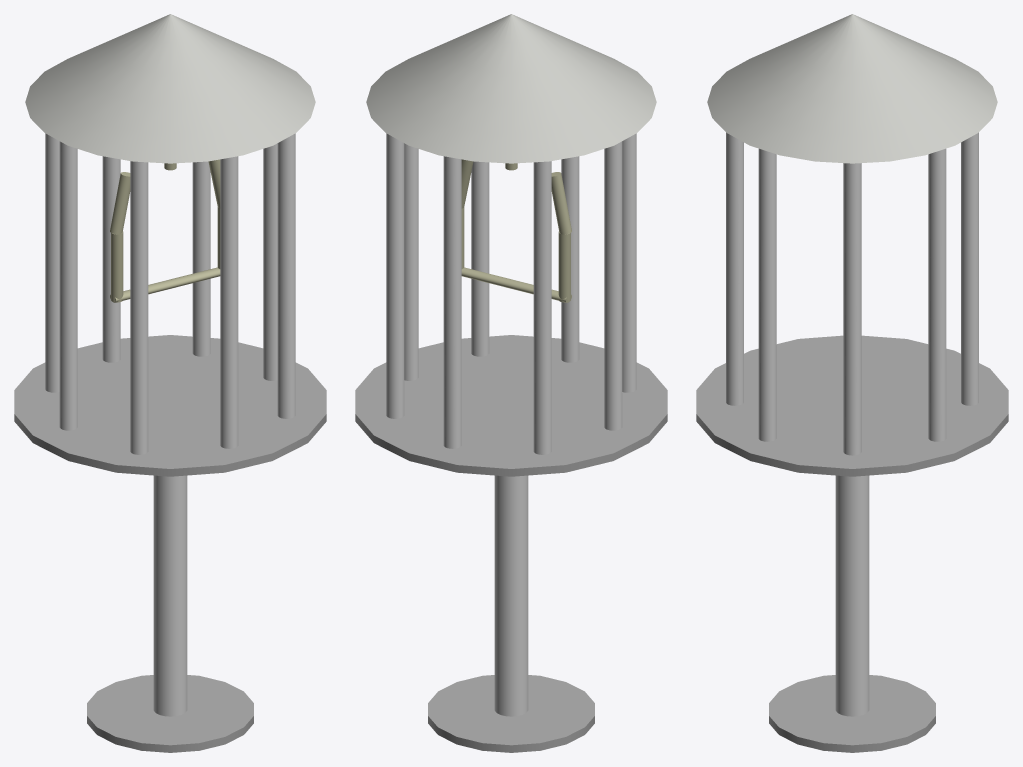
File: Cage(white).FBX
3 views of the same model, side by side, from view 1: azimuth 30°, elevation 25°; view 2: azimuth 150°, elevation 25°; view 3: azimuth 270°, elevation 25° (orthographic).
Parts seen in each view (by area): view 1: Cone001, Cylinder003, Cylinder001, Cylinder002, Cylinder008, Cylinder005, Cylinder006, Cylinder011, Cylinder009, Cylinder010, Cylinder007, Cylinder004 (+3 smaller); view 2: Cone001, Cylinder003, Cylinder001, Cylinder002, Cylinder009, Cylinder004, Cylinder006, Cylinder010, Cylinder008, Cylinder011, Cylinder007, Cylinder005 (+3 smaller); view 3: Cone001, Cylinder003, Cylinder001, Cylinder002, Cylinder007, Cylinder010, Cylinder011, Cylinder004, Cylinder005.
Boxes of the visible parts, x1=… form: Cone001: x1=25, y1=14, x2=315, y2=163; Cylinder003: x1=14, y1=335, x2=326, y2=476; Cylinder001: x1=87, y1=675, x2=253, y2=752; Cylinder002: x1=153, y1=475, x2=187, y2=716; Cylinder008: x1=130, y1=161, x2=148, y2=454; Cylinder005: x1=220, y1=156, x2=238, y2=448; Cylinder006: x1=59, y1=141, x2=77, y2=430; Cylinder011: x1=277, y1=133, x2=295, y2=418; Cylinder009: x1=45, y1=133, x2=59, y2=392; Cylinder010: x1=192, y1=161, x2=210, y2=356; Cylinder007: x1=263, y1=143, x2=277, y2=380; Cylinder004: x1=102, y1=156, x2=120, y2=362; Cone001: x1=366, y1=14, x2=656, y2=163; Cylinder003: x1=355, y1=335, x2=667, y2=476; Cylinder001: x1=428, y1=675, x2=594, y2=752; Cylinder002: x1=494, y1=475, x2=528, y2=716; Cylinder009: x1=533, y1=161, x2=551, y2=454; Cylinder004: x1=443, y1=156, x2=461, y2=448; Cylinder006: x1=604, y1=141, x2=622, y2=430; Cylinder010: x1=386, y1=133, x2=404, y2=418; Cylinder008: x1=622, y1=133, x2=636, y2=392; Cylinder011: x1=471, y1=161, x2=489, y2=356; Cylinder007: x1=404, y1=143, x2=418, y2=380; Cylinder005: x1=561, y1=156, x2=579, y2=362; Cone001: x1=707, y1=14, x2=997, y2=163; Cylinder003: x1=696, y1=335, x2=1008, y2=476; Cylinder001: x1=769, y1=675, x2=935, y2=752; Cylinder002: x1=835, y1=475, x2=869, y2=716; Cylinder007: x1=843, y1=163, x2=861, y2=455; Cylinder010: x1=928, y1=148, x2=946, y2=441; Cylinder011: x1=758, y1=148, x2=776, y2=441; Cylinder004: x1=961, y1=132, x2=978, y2=405; Cylinder005: x1=726, y1=132, x2=743, y2=405.
Bounding box in the file's own units: 37.43 × 91.48 × 36.87.
Materials: 18 (18 with a texture image).
